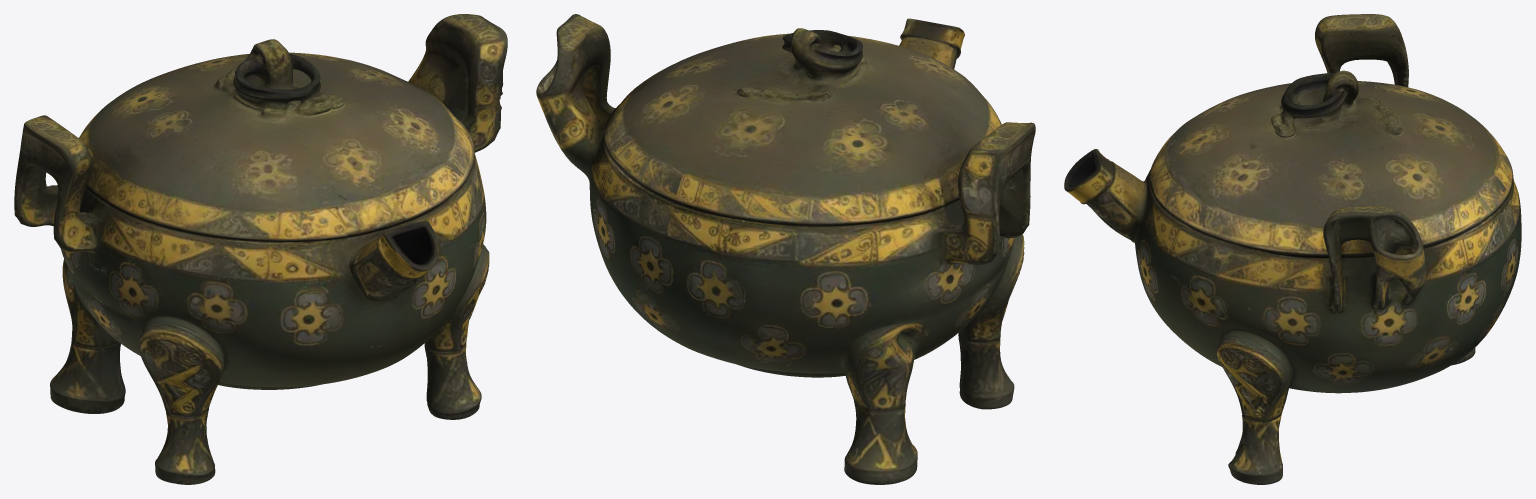
3 renders of one model, left to right at view 1: azimuth 30°, elevation 25°; view 2: azimuth 150°, elevation 25°; view 3: azimuth 270°, elevation 25°, orthographic. The views are drawn at different scales.
Parts seen in each view (by area): view 1: node_0; view 2: node_0; view 3: node_0.
Part boxes in pixels (x1,y1,x2,y2): node_0: (14,14,507,484); node_0: (536,14,1035,484); node_0: (1064,14,1521,484).
Bounding box in the file's own units: 0.9722 × 0.7496 × 0.9129.
1 material, 1 textured.
